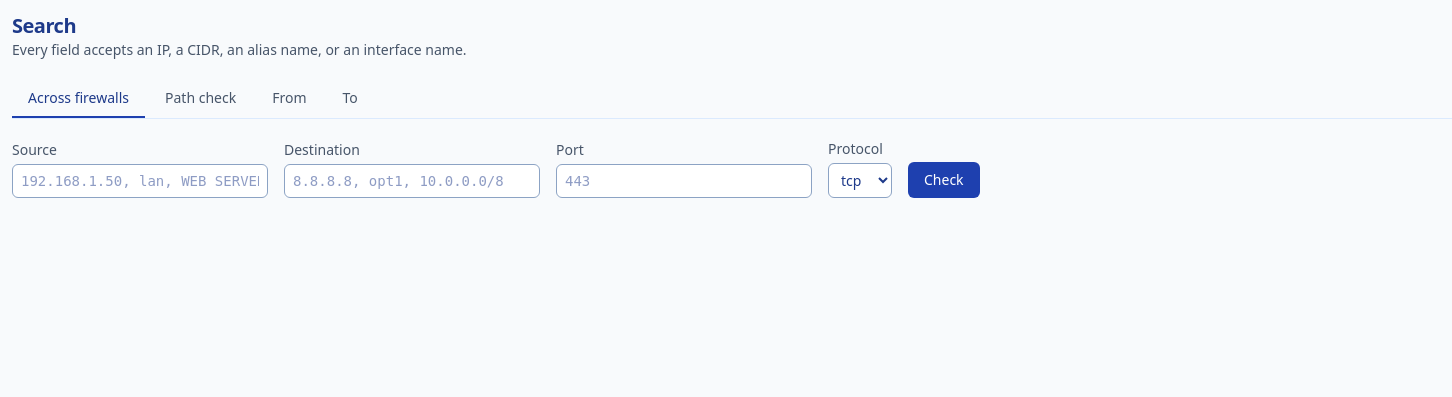
Test: SearchPage › reports the translated destination when NAT applies
This screenshot has width=1452, height=397.
Click the tab "Path check" at coordinates (201, 99), box [149, 80, 252, 118]
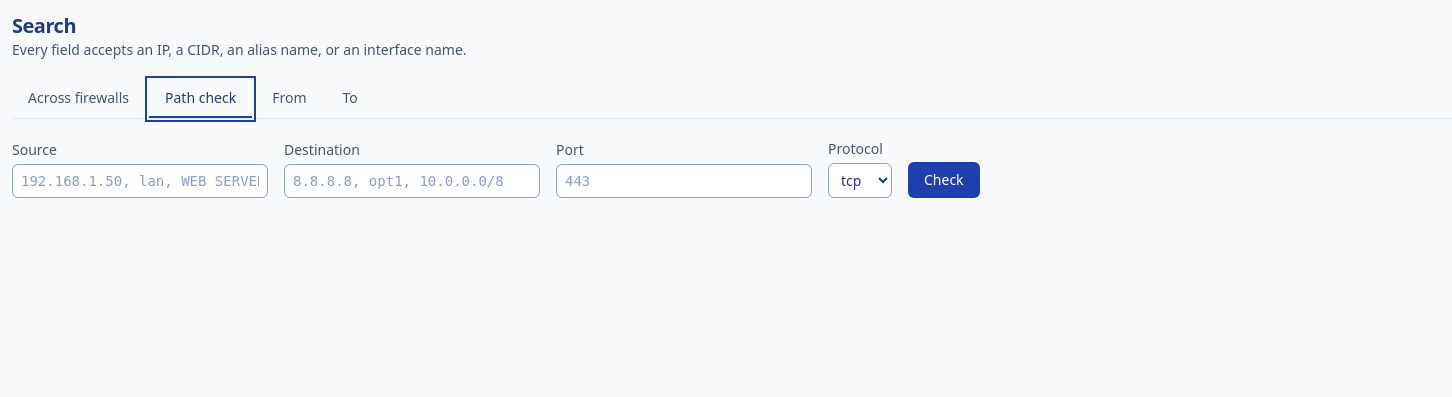
Type "8.8.8.8" into the field labelled "Source" at coordinates (140, 181), box [12, 164, 268, 198]
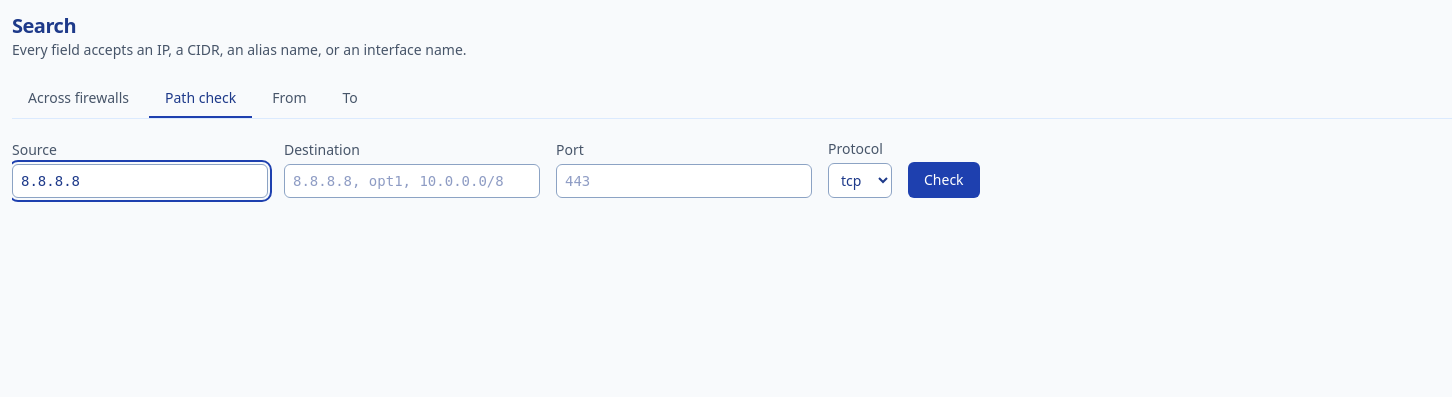
Type "203.0.113.2" into the field labelled "Destination" at coordinates (412, 181), box [284, 164, 540, 198]
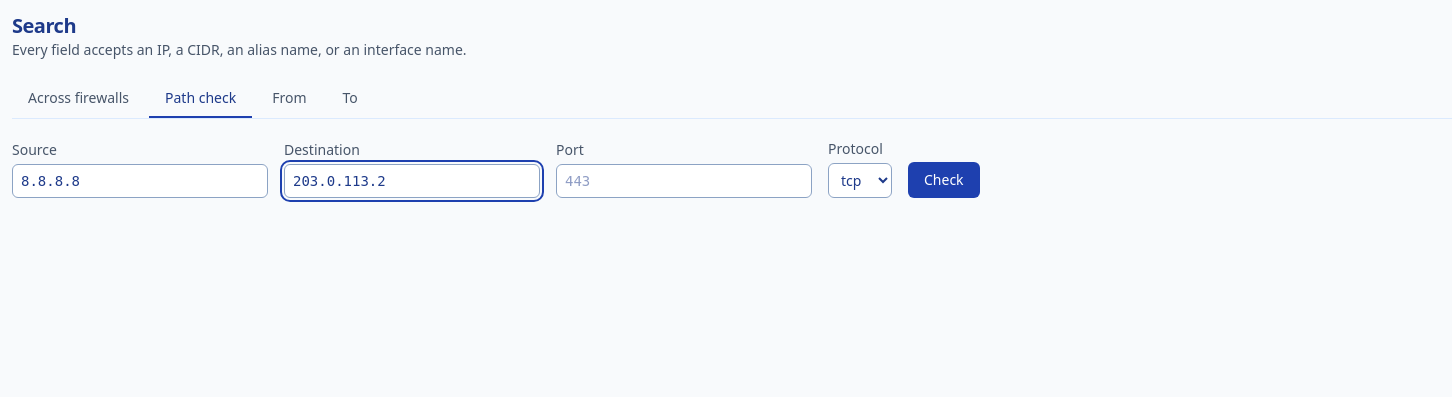
Click the button "Check" at coordinates (944, 180), box [908, 162, 980, 198]
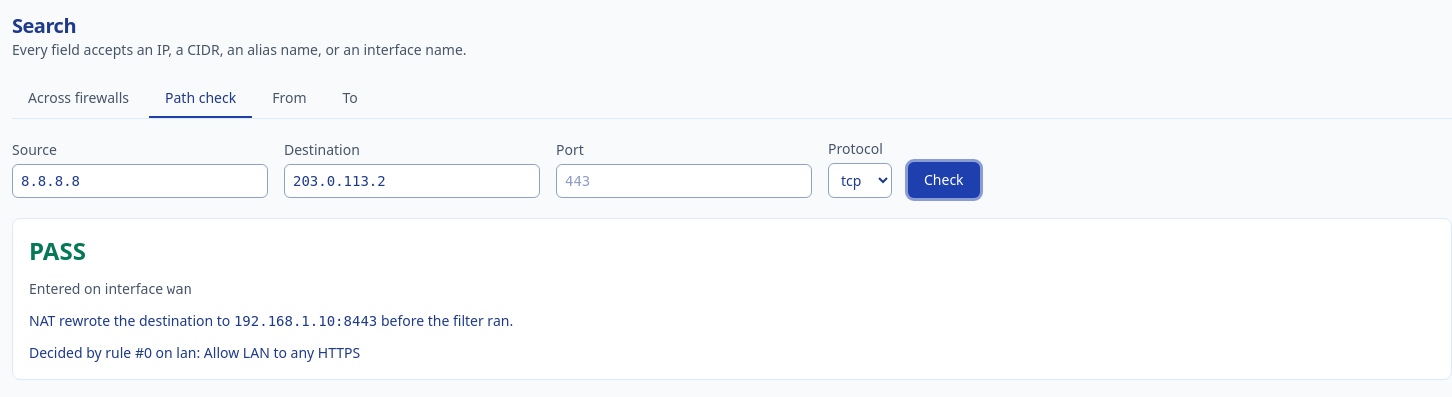
Expected: the text "192.168.1.10:8443" is shown, [234, 313, 377, 329]
